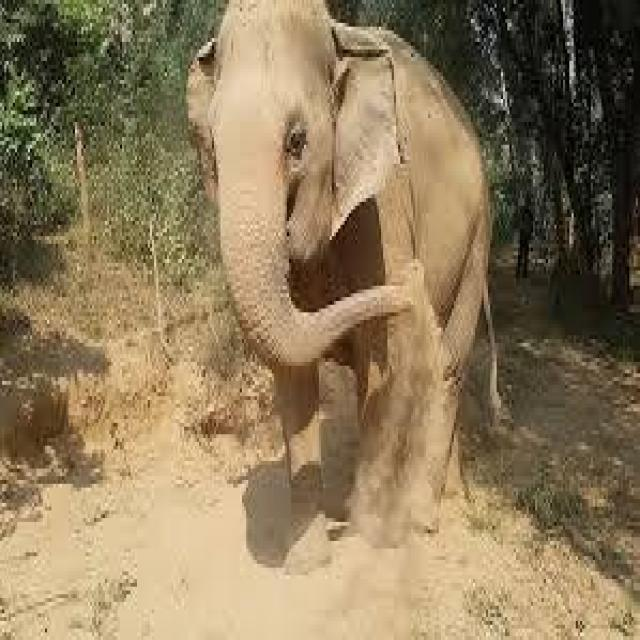Elephant: (184, 4, 490, 522)
